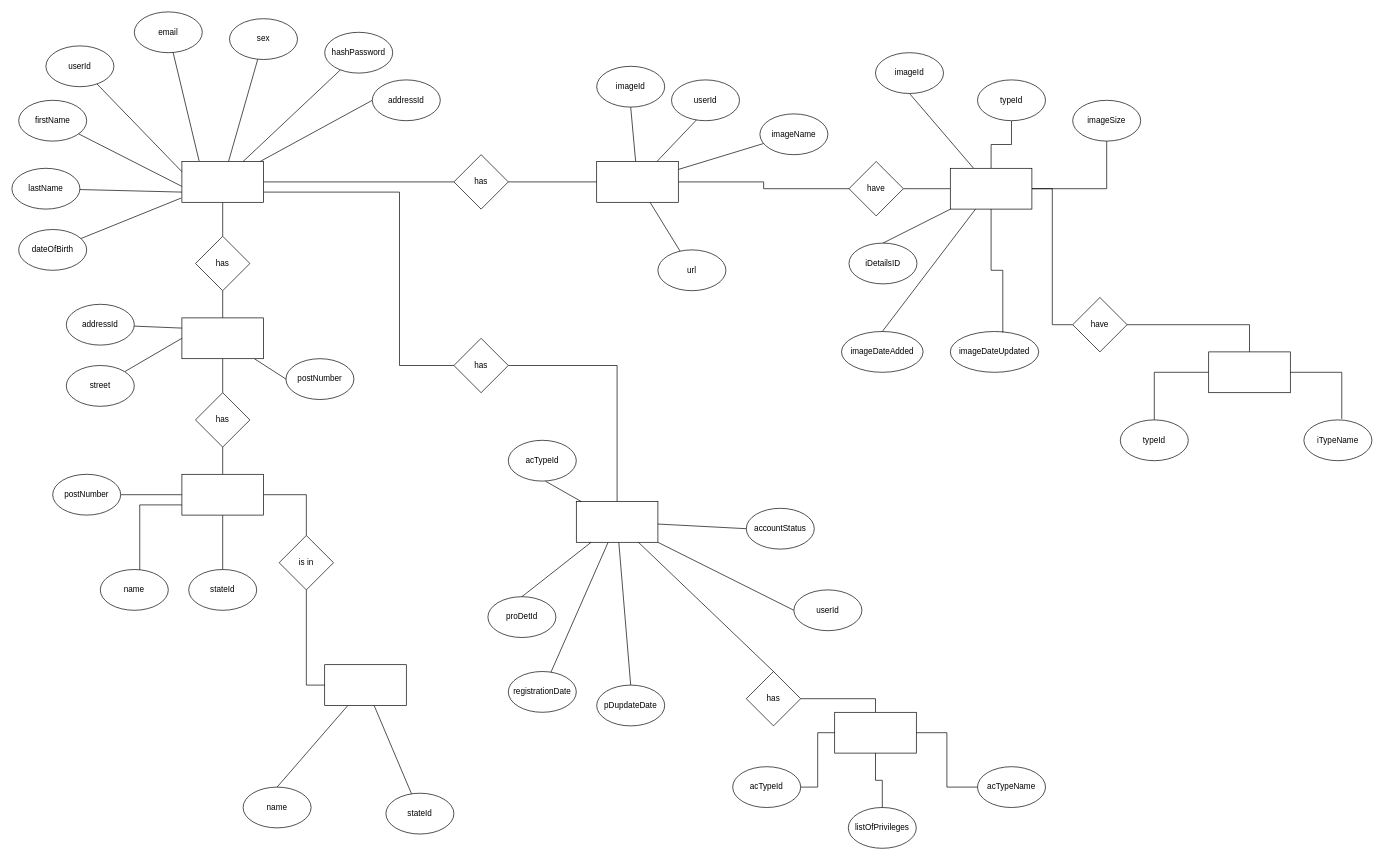
This 1384x860 diagram has some shape labels left out. Each missing label, with the centre of its shape:
"accountType" goes at point (875, 732).
"address" goes at point (222, 338).
"city" goes at point (222, 494).
"image" goes at point (637, 181).
"imageDetails" goes at point (991, 188).
"imageType" goes at point (1249, 372).
"profile" goes at point (222, 181).
"profileDetails" goes at point (617, 521).
"state" goes at point (365, 685).
